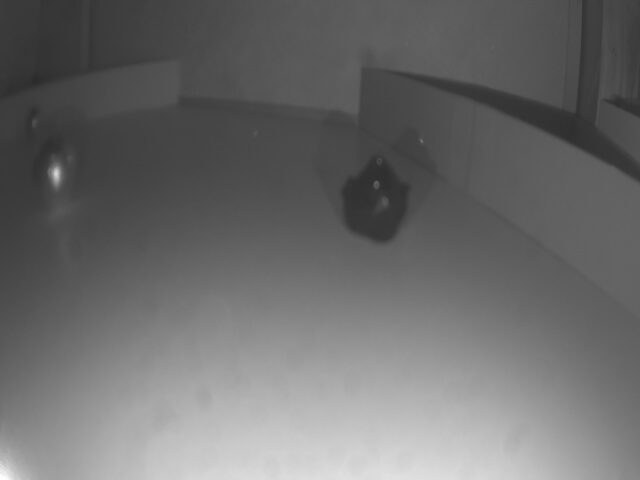Dead: (341, 155, 407, 241)
Live: (29, 137, 88, 209), (25, 108, 40, 135)
Point: (360, 68, 640, 310), (0, 58, 180, 147)
